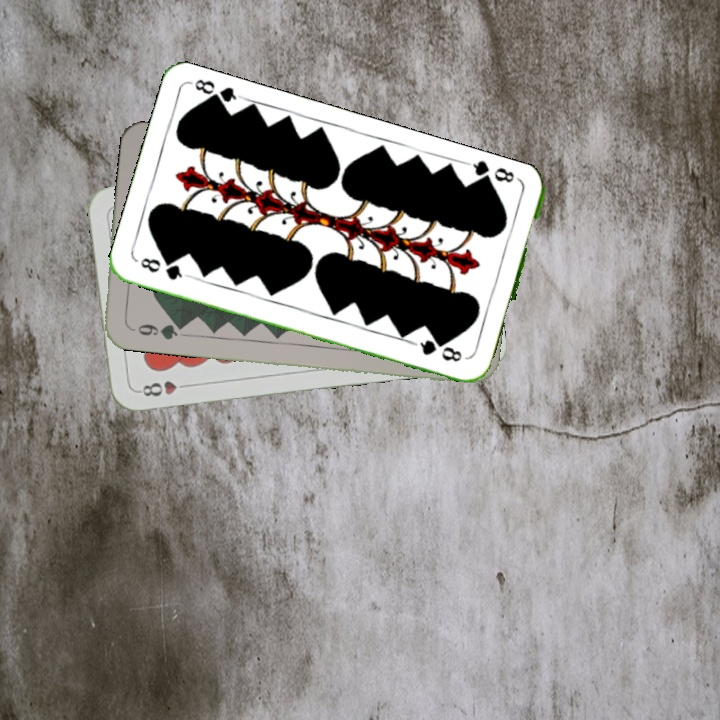G8: (465, 157, 523, 190), (136, 253, 191, 283)
G9: (125, 319, 185, 342)
H8: (134, 377, 193, 399)
